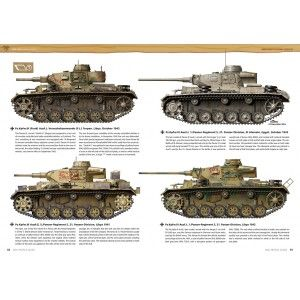Battle Tank: (139, 158, 295, 220), (139, 65, 292, 125), (9, 160, 142, 221), (11, 72, 139, 125)
